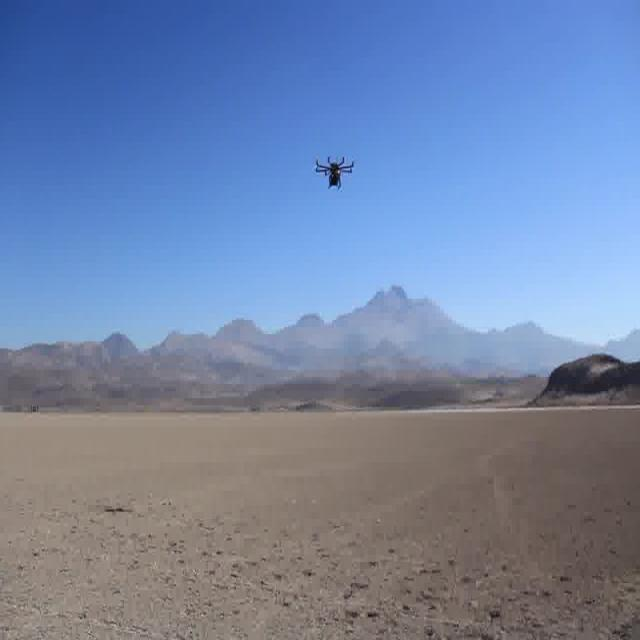drone: (310, 132, 358, 200)
